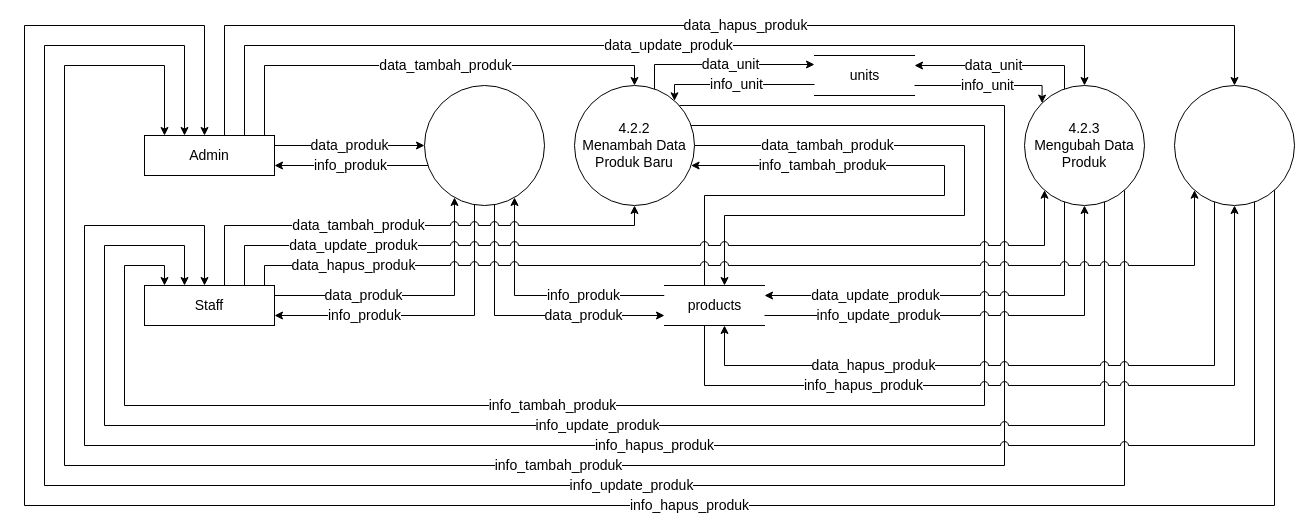
The diagram is 1312 pixels wide and 531 high, and some of its shapes have lost their labels. Each missing label, with the centre of its shape:
4.2.1 Menampilkan Daftar Produk: [484,145]
4.2.4 Menghapus Data Produk: [1234,145]
